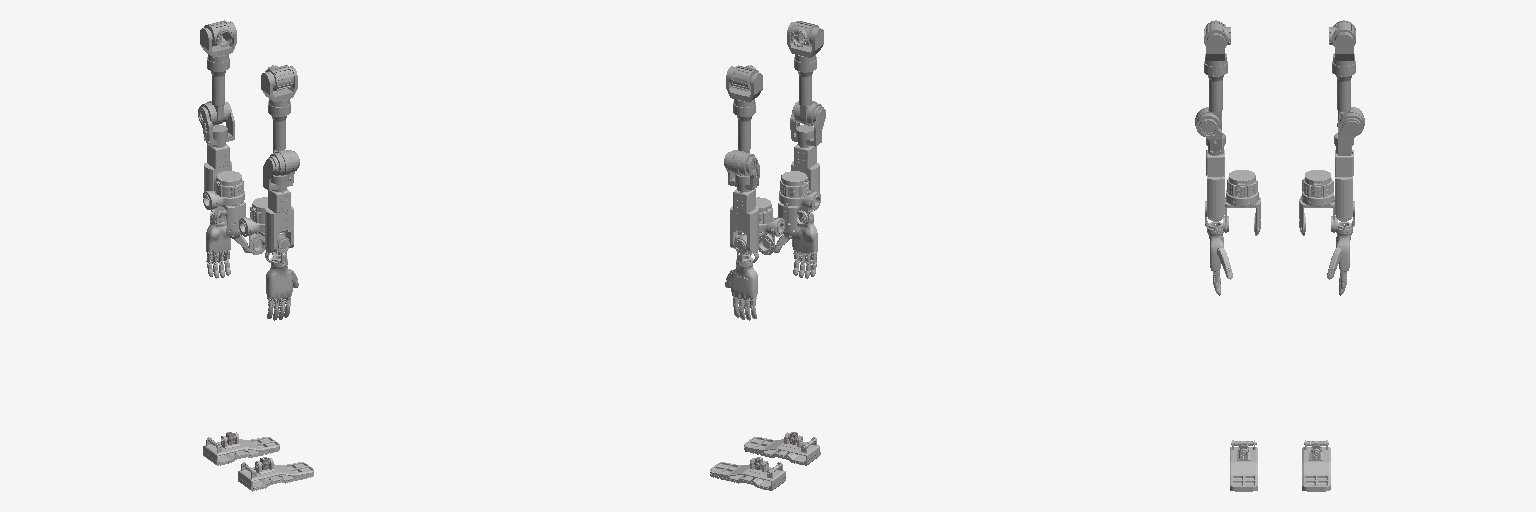
--- Render facts (derived) ---
3 views of the same robot in one strip: view 1: azimuth 30°, elevation 25°; view 2: azimuth 150°, elevation 25°; view 3: azimuth 270°, elevation 25° (orthographic).
Model OGHR_wholeBody with 32 links and 31 joints (12 revolute, 19 fixed), rooted at base_link, posed every joint at zero.
Links seen in each view (by area): view 1: Link-arm-r-07, Link-ankel-r-roll, Link-ankel-l-roll, Link-arm-r-05, Link-arm-l-07, Link-hip-l-roll, Link-arm-r-03, Link-arm-r-02, Link-arm-l-02, Link-arm-l-03, Link-arm-l-04, Link-arm-l-05 (+5 smaller); view 2: Link-arm-l-07, Link-ankel-l-roll, Link-ankel-r-roll, Link-arm-l-05, Link-arm-r-07, Link-hip-r-roll, Link-arm-l-03, Link-arm-l-02, Link-arm-r-02, Link-arm-r-03, Link-arm-r-05, Link-arm-r-04 (+5 smaller); view 3: Link-ankel-l-roll, Link-ankel-r-roll, Link-arm-r-05, Link-arm-l-05, Link-arm-l-07, Link-arm-r-07, Link-hip-r-roll, Link-hip-l-roll, Link-arm-r-03, Link-arm-l-03, Link-arm-r-02, Link-arm-l-02 (+2 smaller).
Boxes of the visible links, x1,y1,x2,y2 form: Link-arm-r-07: (266, 239, 298, 320); Link-ankel-r-roll: (238, 458, 313, 491); Link-ankel-l-roll: (203, 432, 279, 465); Link-arm-r-05: (265, 189, 293, 252); Link-arm-l-07: (206, 206, 249, 278); Link-hip-l-roll: (203, 171, 244, 209); Link-arm-r-03: (269, 115, 297, 175); Link-arm-r-02: (261, 66, 297, 116); Link-arm-l-02: (200, 21, 236, 71); Link-arm-l-03: (200, 71, 229, 125); Link-arm-l-04: (198, 102, 234, 146); Link-arm-l-05: (204, 144, 231, 191); Link-arm-l-07: (725, 239, 757, 320); Link-ankel-l-roll: (710, 458, 785, 490); Link-ankel-r-roll: (744, 432, 820, 465); Link-arm-l-05: (730, 189, 758, 252); Link-arm-r-07: (774, 206, 817, 278); Link-hip-r-roll: (779, 171, 820, 210); Link-arm-l-03: (725, 115, 754, 175); Link-arm-l-02: (726, 66, 762, 116); Link-arm-r-02: (787, 22, 823, 71); Link-arm-r-03: (794, 71, 823, 125); Link-arm-r-05: (791, 144, 819, 191); Link-arm-r-04: (790, 101, 825, 146); Link-ankel-l-roll: (1302, 440, 1330, 491); Link-ankel-r-roll: (1230, 440, 1257, 491); Link-arm-r-05: (1206, 150, 1224, 221); Link-arm-l-05: (1335, 150, 1353, 221); Link-arm-l-07: (1327, 201, 1354, 295); Link-arm-r-07: (1205, 201, 1232, 295); Link-hip-r-roll: (1226, 170, 1258, 206); Link-hip-l-roll: (1302, 170, 1333, 206); Link-arm-r-03: (1195, 75, 1223, 136); Link-arm-l-03: (1336, 75, 1364, 135); Link-arm-r-02: (1204, 20, 1227, 75); Link-arm-l-02: (1332, 20, 1355, 75).
Bounding box of the posed robot: 0.2604 × 0.5365 × 1.55 m (x, y, z).
Meshes: 31 distinct files referenced, 22 mesh visuals loaded (22 binary STL); not drawn: 9 (reference not matched to a file when rendering).

The robot description file, URDF, robot "OGHR_wholeBody":
<?xml version='1.0' encoding='utf-8'?>
<!--Mar20，dof=30. 在14个arm关节加入dyamic damping，解决arm d参数不为0时，模型起飞的问题 -->


<robot name="OGHR_wholeBody">
  <link name="base_link">
    <visual>
      <origin xyz="0 0 0" rpy="0 0 0" />
      <geometry>
        <mesh filename="../meshes/base_link.STL" />
      </geometry>
      <material name="">
        <color rgba="0.752941176470588 0.752941176470588 0.752941176470588 1" />
      </material>
    </visual>
    <collision>
      <origin xyz="-0.013952188014817027 -0.0017500072717666626 0.1952817626297474" rpy="0.0 -0.0 0.0" />
      <geometry>
        <cylinder radius="0.17451942443882115" length="0.5015875324606895" /></geometry>
    </collision>
  </link>

  <joint name="base_to_base_inertia" type="fixed">
      <parent link="base_link"/>
      <child link="base_inertia"/>
      <origin rpy="0 0 0" xyz="0 0 0"/>
  </joint>

  <link name="base_inertia">
    <inertial>
      <origin xyz="-0.00937873275308851 -0.0024174492797241 0.239477945072171" rpy="0 0 0" />
      <mass value="18.1571811742143" />
      <inertia ixx="0.169254198117498" ixy="-9.82793377858521E-05" ixz="-0.00196962742767876" iyy="0.117409548011636" iyz="-0.00155273612928489" izz="0.0892397551850186" />
    </inertial>
  </link>


  <link name="Link-head">
    <inertial>
      <origin xyz="0.00675716170223759 -0.00156848883148059 0.0869803247760886" rpy="0 0 0" />
      <mass value="6.17377017203395" />
      <inertia ixx="0.00531354041763959" ixy="2.5342574679348E-06" ixz="-2.64506724474426E-07" iyy="0.00411692689463954" iyz="-1.73165398064626E-05" izz="0.00526273524074424" />
    </inertial>
    <visual>
      <origin xyz="0 0 0" rpy="0 0 0" />
      <geometry>
        <mesh filename="../meshes/Link-head.STL" />
      </geometry>
      <material name="">
        <color rgba="0.752941176470588 0.752941176470588 0.752941176470588 1" />
      </material>
    </visual>
<!--     <collision>
      <origin xyz="0.012872748076915741 -0.0017999988049268723 0.08892499655485153" rpy="-3.141592653589793 0.0 -1.5707963267948966" />
      <geometry>
        <box size="0.1273999996483326 0.15474548935890198 0.32184998691082" /></geometry>
    </collision> -->
  </link>
  <joint name="Joint-head" type="fixed">
    <origin xyz="0.00900000000000004 -0.00174999999999978 0.4151968020067" rpy="0 0 0" />
    <parent link="base_link" />
    <child link="Link-head" />
    <axis xyz="0 0 1" />
    <limit lower="-1.5708" upper="1.5708" effort="26" velocity="109.8"/>
  </joint>
  <link name="Link-waist-pitch">
    <inertial>
      <origin xyz="-0.000763111686901186 0.0406491129851861 -2.23880461263648E-05" rpy="0 0 0" />
      <mass value="2.51931527548815" />
      <inertia ixx="0.00308539512532376" ixy="1.43517055822627E-05" ixz="1.82270453565513E-05" iyy="0.0046854972257646" iyz="-7.36407138377499E-06" izz="0.00408449264897039" />
    </inertial>
    <visual>
      <origin xyz="0 0 0" rpy="0 0 0" />
      <geometry>
        <mesh filename="../meshes/Link-waist-pitch.STL" />
      </geometry>
      <material name="">
        <color rgba="0.752941176470588 0.752941176470588 0.752941176470588 1" />
      </material>
    </visual>
<!--     <collision>
      <origin xyz="0.00199996680021286 0.07050000230083242 -1.6763806344361431e-07" rpy="1.5707963267948966 1.5707963267948963 0.0" />
      <geometry>
        <box size="0.11997997015714645 0.14000000059604645 0.14300000469665974" /></geometry>
    </collision> -->
  </link>
  <joint name="Joint-waist-pitch" type="fixed">
    <origin xyz="0 -0.0659999999999838 0" rpy="0 0 0" />
    <parent link="base_link" />
    <child link="Link-waist-pitch" />
    <axis xyz="0 1 0" />
    <limit lower="-0.29671" upper="0.78540" effort="315" velocity="3.72"/>
  </joint>
  <link name="Link-waist-roll">
    <inertial>
      <origin xyz="0.00845281944204091 1.33729054259945E-05 -0.017867520692591" rpy="0 0 0" />
      <mass value="2.80248311132153" />
      <inertia ixx="0.00495506989132014" ixy="1.48197791727765E-07" ixz="0.000309458199534245" iyy="0.00652898258745587" iyz="-3.20761660234857E-06" izz="0.00585004366434736" />
    </inertial>
    <visual>
      <origin xyz="0 0 0" rpy="0 0 0" />
      <geometry>
        <mesh filename="../meshes/Link-waist-roll.STL" />
      </geometry>
      <material name="">
        <color rgba="0.752941176470588 0.752941176470588 0.752941176470588 1" />
      </material>
    </visual>
<!--     <collision>
      <origin xyz="0.03731351097956529 0.00017723298096544265 -0.021654046216654208" rpy="1.4924704882736701 6.123119423390688e-17 -1.5665537786323642" />
      <geometry>
        <box size="0.11996369133850085 0.15626377947716824 0.23801676786660336" /></geometry>
    </collision> -->
  </link>
  <joint name="Joint-waist-roll" type="fixed">
    <origin xyz="-0.0650000369281862 0.0645001627211587 0" rpy="0 0 0" />
    <parent link="Link-waist-pitch" />
    <child link="Link-waist-roll" />
    <axis xyz="-1 0 0" />
    <limit lower="-0.69813" upper="0.69813" effort="315" velocity="3.72"/>
  </joint>
  <link name="Link-waist-yaw">
    <inertial>
      <origin xyz="-0.0929736164754045 0.000149481533112372 -0.0563711962261271" rpy="0 0 0" />
      <mass value="7.75174563610637" />
      <inertia ixx="0.0228536797733247" ixy="-1.56518939113941E-05" ixz="-0.000703849030322178" iyy="0.0106429949808401" iyz="1.22528496459123E-05" izz="0.0186276571755373" />
    </inertial>
    <visual>
      <origin xyz="0 0 0" rpy="0 0 0" />
      <geometry>
        <mesh filename="../meshes/Link-waist-yaw.STL" />
      </geometry>
      <material name="">
        <color rgba="0.752941176470588 0.752941176470588 0.752941176470588 1" />
      </material>
    </visual>
<!--     <collision>
      <origin xyz="-0.05185302265234276 2.760867437982527e-18 -0.06412826162728348" rpy="1.5707963267948966 1.460139092714645 -1.2246467991473535e-16" />
      <geometry>
        <box size="0.13545561016630708 0.2989381330574985 0.3733132779598236" /></geometry>
    </collision> -->
  </link>
  <joint name="Joint-waist-yaw" type="fixed">
    <origin xyz="0.0684999999999997 0 -0.0980000513061045" rpy="0 0 0" />
    <parent link="Link-waist-roll" />
    <child link="Link-waist-yaw" />
    <axis xyz="0 0 -1" />
    <limit lower="-0.78540" upper="0.78540" effort="121" velocity="5.92"/>
  </joint>
  <link name="Link-hip-r-roll">
    <inertial>
      <origin xyz="0.076390166737578 3.03511543725127E-05 0.0143062391833074" rpy="0 0 0" />
      <mass value="1.80238875741595" />
      <inertia ixx="0.00125179280974838" ixy="1.54590168247862E-06" ixz="3.05625833303904E-05" iyy="0.00169535240406635" iyz="-1.68196897206079E-07" izz="0.00272541511593347" />
    </inertial>
    <visual>
      <origin xyz="0 0 0" rpy="0 0 0" />
      <geometry>
        <mesh filename="../meshes/Link-hip-r-roll.STL" />
      </geometry>
      <material name="">
        <color rgba="0.752941176470588 0.752941176470588 0.752941176470588 1" />
      </material>
    </visual>
<!--     <collision>
      <origin xyz="0.06258442969846947 0.0011838415513330653 0.024949598458992146" rpy="0.011985398657902036 1.4357224833008577 -0.04597695021833127" />
      <geometry>
        <box size="0.09813085078731858 0.10398032712701388 0.14201198672823775" /></geometry>
    </collision> -->
  </link>
  <joint name="Joint-hip-r-roll" type="revolute">
    <origin xyz="-0.08925 -0.12 -0.069" rpy="0 0 0" />
    <parent link="Link-waist-yaw" />
    <child link="Link-hip-r-roll" />
    <axis xyz="1 0 0" />
    <limit lower="-0.17453" upper="0.43633" effort="320" velocity="20.94"/>
  </joint>
  <link name="Link-hip-r-yaw">
    <inertial>
      <origin xyz="1.96934755031242E-08 0.0079274160560492 -0.0418046770907138" rpy="0 0 0" />
      <mass value="0.454709107604389" />
      <inertia ixx="0.000973164812401904" ixy="-3.16836690856401E-10" ixz="9.06139013107346E-11" iyy="0.000718376693770816" iyz="0.000242790155097503" izz="0.000588381553769407" />
    </inertial>
    <visual>
      <origin xyz="0 0 0" rpy="0 0 0" />
      <geometry>
        <mesh filename="../meshes/Link-hip-r-yaw.STL" />
      </geometry>
      <material name="">
        <color rgba="0.752941176470588 0.752941176470588 0.752941176470588 1" />
      </material>
    </visual>
<!--     <collision>
      <origin xyz="-9.184846796413515e-20 -0.0014999993145465881 -0.06325000058859587" rpy="3.141592653589793 0.0 3.141592653589793" />
      <geometry>
        <box size="0.07599999755620956 0.12099999934434891 0.13250000216066837" /></geometry>
    </collision> -->
  </link>
  <joint name="Joint-hip-r-yaw" type="revolute">
    <origin xyz="0.084 0 -0.0085" rpy="0 0 0" />
    <parent link="Link-hip-r-roll" />
    <child link="Link-hip-r-yaw" />
    <axis xyz="0 0 1" />
    <limit lower="-0.69813" upper="0.69813" effort="160" velocity="19.63"/>
  </joint>
  <link name="Link-hip-r-pitch">
    <inertial>
      <origin xyz="0.000820610497592605 -0.0604023978595183 -0.10951682081624" rpy="0 0 0" />
      <mass value="7.95220980279937" />
      <inertia ixx="0.0503890524428115" ixy="3.18282420635614E-05" ixz="0.000471768988045289" iyy="0.059490539677579" iyz="-0.000509300588803013" izz="0.0130551232083801" />
    </inertial>
    <visual>
      <origin xyz="0 0 0" rpy="0 0 0" />
      <geometry>
        <mesh filename="../meshes/Link-hip-r-pitch.STL" />
      </geometry>
      <material name="">
        <color rgba="0.752941176470588 0.752941176470588 0.752941176470588 1" />
      </material>
    </visual>
<!--     <collision>
      <origin xyz="-4.6193543521264294e-05 -0.07795840022630607 -0.18361305197639355" rpy="0.0039455287382695395 -3.8854784692761904e-05 3.14050601593697" />
      <geometry>
        <box size="0.14507866237577624 0.15943287175483914 0.5127248510052559" /></geometry>
    </collision> -->
  </link>
  <joint name="Joint-hip-r-pitch" type="revolute">
    <origin xyz="0 0.042 -0.0915" rpy="0 0 0" />
    <parent link="Link-hip-r-yaw" />
    <child link="Link-hip-r-pitch" />
    <axis xyz="0 -1 0" />
    <limit lower="-0.78540" upper="1.83260" effort="396" velocity="19.16"/>
  </joint>
  <link name="Link-knee-r-pitch">
    <inertial>
      <origin xyz="0.000639236354171291 9.62808016377603E-05 -0.153490081684239" rpy="0 0 0" />
      <mass value="3.11550909936834" />
      <inertia ixx="0.0186292337539655" ixy="1.58683525627823E-06" ixz="-6.73265902440249E-05" iyy="0.0198789326977139" iyz="-0.000128511630887303" izz="0.00190947453932418" />
    </inertial>
    <visual>
      <origin xyz="0 0 0" rpy="0 0 0" />
      <geometry>
        <mesh filename="../meshes/Link-knee-r-pitch.STL" />
      </geometry>
      <material name="">
        <color rgba="0.752941176470588 0.752941176470588 0.752941176470588 1" />
      </material>
    </visual>
<!--     <collision>
      <origin xyz="-3.725290294406618e-09 0.0003118944892807017 -0.17954874387885927" rpy="3.141592653589793 -0.013213567696469695 1.5707963267948966" />
      <geometry>
        <box size="0.07408246400690617 0.08600000292062761 0.4455689628784434" /></geometry>
    </collision> -->
  </link>
  <joint name="Joint-knee-r-pitch" type="revolute">
    <origin xyz="0 -0.03675 -0.4" rpy="0 0 0" />
    <parent link="Link-hip-r-pitch" />
    <child link="Link-knee-r-pitch" />
    <axis xyz="0 -1 0" />
    <limit lower="-2.35619" upper="0.08727" effort="396" velocity="19.16"/>
  </joint>
  <link name="Link-ankel-r-pitch">
    <inertial>
      <origin xyz="-3.17662562920873E-13 3.53606033343112E-14 -5.48450174164827E-14" rpy="0 0 0" />
      <mass value="0.1066047377175" />
      <inertia ixx="1.57903782679343E-05" ixy="-2.16224482051812E-21" ixz="-1.15876503901397E-19" iyy="1.57903782679342E-05" iyz="-1.66852913898316E-21" izz="1.31288118415823E-05" />
    </inertial>
    <visual>
      <origin xyz="0 0 0" rpy="0 0 0" />
      <geometry>
        <mesh filename="../meshes/Link-ankel-r-pitch.STL" />
      </geometry>
      <material name="">
        <color rgba="0.650980392156863 0.619607843137255 0.588235294117647 1" />
      </material>
    </visual>
    <!-- <collision>
      <origin xyz="-4.381461382025417e-06 -4.3428215170957784e-06 4.450455682340315e-10" rpy="-9.819429914603828e-05 4.2555862630435386e-06 9.819429914603827e-05" />
      <geometry>
        <cylinder radius="0.019225703489242303" length="0.03800194496704715" /></geometry>
    </collision> -->
  </link>
  <joint name="Joint-ankel-r-pitch" type="revolute">
    <origin xyz="0 0 -0.387" rpy="0 0 0" />
    <parent link="Link-knee-r-pitch" />
    <child link="Link-ankel-r-pitch" />
    <axis xyz="0 -1 0" />
    <limit lower="-0.43633" upper="0.61087" effort="58.5" velocity="48.8"/>
  </joint>
  <link name="Link-ankel-r-roll">
    <inertial>
      <origin xyz="0.025070352573409 1.34105256369144E-06 -0.0402504890464221" rpy="0 0 0" />
      <mass value="0.961268049580653" />
      <inertia ixx="0.000733203896635286" ixy="3.66226788344456E-07" ixz="0.000346398619567223" iyy="0.00444019918875131" iyz="-1.28850738880711E-08" izz="0.00484731317996765" />
    </inertial>
    <visual>
      <origin xyz="0 0 0" rpy="0 0 0" />
      <geometry>
        <mesh filename="../meshes/Link-ankel-r-roll.STL" />
      </geometry>
      <material name="">
        <color rgba="0.752941176470588 0.752941176470588 0.752941176470588 1" />
      </material>
    </visual>
     <collision>
            <origin rpy="0.00000000 1.5708 0.00000000" xyz="0.0485000 -0.04000000 -0.06300000"/>
            <geometry>
                <cylinder radius="0.00500000" length="0.2500000"/>
            </geometry>
    </collision>
    <collision>
    <origin rpy="0.00000000 1.5708 0.00000000" xyz="0.0485000 0.04000000 -0.06300000"/>
            <geometry>
                <!-- <sphere radius="0.02" /> -->
                <cylinder radius="0.00500000" length="0.2500000"/>
            </geometry>
    </collision>
  </link>
  <joint name="Joint-ankel-r-roll" type="revolute">
    <origin xyz="0 0 0" rpy="0 0 0" />
    <parent link="Link-ankel-r-pitch" />
    <child link="Link-ankel-r-roll" />
    <axis xyz="1 0 0" />
    <limit lower="-0.43633" upper="0.43633" effort="58.5" velocity="48.8"/>
  </joint>
  <link name="Link-hip-l-roll">
    <inertial>
      <origin xyz="0.0763901668286551 3.03513294872687E-05 0.014306238971839" rpy="0 0 0" />
      <mass value="1.80238874582224" />
      <inertia ixx="0.00125179280304342" ixy="1.54590909428936E-06" ixz="3.05625828447715E-05" iyy="0.00169535239773455" iyz="-1.68197312334836E-07" izz="0.00272541510296216" />
    </inertial>
    <visual>
      <origin xyz="0 0 0" rpy="0 0 0" />
      <geometry>
        <mesh filename="../meshes/Link-hip-l-roll.STL" />
      </geometry>
      <material name="">
        <color rgba="0.752941176470588 0.752941176470588 0.752941176470588 1" />
      </material>
    </visual>
<!--     <collision>
      <origin xyz="0.06258442969846949 0.0011838415513330829 0.024949598458992122" rpy="0.011985398657903249 1.4357224833008586 -0.04597695021833084" />
      <geometry>
        <box size="0.09813085078731858 0.10398032712701387 0.14201198672823775" /></geometry>
    </collision> -->
  </link>
  <joint name="Joint-hip-l-roll" type="revolute">
    <origin xyz="-0.08925 0.12 -0.069" rpy="0 0 0" />
    <parent link="Link-waist-yaw" />
    <child link="Link-hip-l-roll" />
    <axis xyz="1 0 0" />
    <limit lower="-0.17453" upper="0.43633" effort="320" velocity="20.94"/>
  </joint>
  <link name="Link-hip-l-yaw">
    <inertial>
      <origin xyz="-1.96942060992633E-08 -0.00792741605598087 -0.041804677090701" rpy="0 0 0" />
      <mass value="0.454709107604388" />
      <inertia ixx="0.000973164812401896" ixy="-3.16836692200751E-10" ixz="-9.06139025122845E-11" iyy="0.000718376693770812" iyz="-0.000242790155097502" izz="0.000588381553769401" />
    </inertial>
    <visual>
      <origin xyz="0 0 0" rpy="0 0 0" />
      <geometry>
        <mesh filename="../meshes/Link-hip-l-yaw.STL" />
      </geometry>
      <material name="">
        <color rgba="0.752941176470588 0.752941176470588 0.752941176470588 1" />
      </material>
    </visual>
<!--     <collision>
      <origin xyz="-6.040048263161108e-18 0.001499999314546582 -0.06325000058859587" rpy="6.123233995736766e-17 -1.2246467991473532e-16 -6.123233995736767e-17" />
      <geometry>
        <box size="0.07599999755620956 0.12099999934434891 0.13250000216066837" /></geometry>
    </collision> -->
  </link>
  <joint name="Joint-hip-l-yaw" type="revolute">
    <origin xyz="0.084 0 -0.0085" rpy="0 0 0" />
    <parent link="Link-hip-l-roll" />
    <child link="Link-hip-l-yaw" />
    <axis xyz="0 0 1" />
    <limit lower="-0.69813" upper="0.69813" effort="160" velocity="19.63"/>
  </joint>
  <link name="Link-hip-l-pitch">
    <inertial>
      <origin xyz="0.00105388043992766 0.0604023021900387 -0.109522824129709" rpy="0 0 0" />
      <mass value="7.95221815290018" />
      <inertia ixx="0.0503922346722857" ixy="-2.23549074721858E-05" ixz="0.000443327356401021" iyy="0.0594907180450141" iyz="0.000509272882984435" izz="0.0130521193057974" />
    </inertial>
    <visual>
      <origin xyz="0 0 0" rpy="0 0 0" />
      <geometry>
        <mesh filename="../meshes/Link-hip-l-pitch.STL" />
      </geometry>
      <material name="">
        <color rgba="0.752941176470588 0.752941176470588 0.752941176470588 1" />
      </material>
    </visual>
<!--     <collision>
      <origin xyz="-2.2520426185974134e-05 0.07796109323125147 -0.18361422461241078" rpy="0.003911392450868313 0.00020931369706806438 0.00036150118021151023" />
      <geometry>
        <box size="0.14503427450383943 0.15941111856712295 0.5127229271802446" /></geometry>
    </collision> -->
  </link>
  <joint name="Joint-hip-l-pitch" type="revolute">
    <origin xyz="0 -0.042 -0.0915" rpy="0 0 0" />
    <parent link="Link-hip-l-yaw" />
    <child link="Link-hip-l-pitch" />
    <axis xyz="0 -1 0" />
    <limit lower="-0.78540" upper="1.83260" effort="396" velocity="19.16"/>
  </joint>
  <link name="Link-knee-l-pitch">
    <inertial>
      <origin xyz="0.000859577488270175 -9.62775349648143E-05 -0.153320419279957" rpy="0 0 0" />
      <mass value="3.11550523222966" />
      <inertia ixx="0.0186220878233122" ixy="-1.3289358419371E-06" ixz="-7.88987246350888E-05" iyy="0.0198789407947462" iyz="0.000126859254993277" izz="0.00191662868343965" />
    </inertial>
    <visual>
      <origin xyz="0 0 0" rpy="0 0 0" />
      <geometry>
        <mesh filename="../meshes/Link-knee-l-pitch.STL" />
      </geometry>
      <material name="">
        <color rgba="0.752941176470588 0.752941176470588 0.752941176470588 1" />
      </material>
    </visual>
<!--     <collision>
      <origin xyz="0.0034062936902046217 -3.095157628723705e-18 -0.17950000800192356" rpy="-3.141592653589793 6.123233995736766e-17 -1.5707963267948968" />
      <geometry>
        <box size="0.07427535951137543 0.09281259030103683 0.4450000040233135" /></geometry>
    </collision> -->
  </link>
  <joint name="Joint-knee-l-pitch" type="revolute">
    <origin xyz="0 0.03675 -0.4" rpy="0 0 0" />
    <parent link="Link-hip-l-pitch" />
    <child link="Link-knee-l-pitch" />
    <axis xyz="0 -1 0" />
    <limit lower="-2.35619" upper="0.08727" effort="396" velocity="19.16"/>
  </joint>
  <link name="Link-ankel-l-pitch">
    <inertial>
      <origin xyz="-2.44984588171349E-13 3.88300502862649E-14 -7.7715611723761E-14" rpy="0 0 0" />
      <mass value="0.1066047377175" />
      <inertia ixx="1.57903782679342E-05" ixy="-6.88750394857774E-21" ixz="-4.53331603713002E-21" iyy="1.57903782679341E-05" iyz="-1.30790377938469E-20" izz="1.31288118415823E-05" />
    </inertial>
    <visual>
      <origin xyz="0 0 0" rpy="0 0 0" />
      <geometry>
        <mesh filename="../meshes/Link-ankel-l-pitch.STL" />
      </geometry>
      <material name="">
        <color rgba="0.650980392156863 0.619607843137255 0.588235294117647 1" />
      </material>
    </visual>
    <!-- <collision>
      <origin xyz="4.38146138216244e-06 4.342821517054662e-06 4.450455685953935e-10" rpy="9.819429913768458e-05 -4.2555862559364705e-06 9.819429913768458e-05" />
      <geometry>
        <cylinder radius="0.019225703489242414" length="0.03800194496704687" /></geometry>
    </collision> -->
  </link>
  <joint name="Joint-ankel-l-pitch" type="revolute">
    <origin xyz="0 0 -0.387" rpy="0 0 0" />
    <parent link="Link-knee-l-pitch" />
    <child link="Link-ankel-l-pitch" />
    <axis xyz="0 -1 0" />
    <limit lower="-0.43644" upper="0.61087" effort="58.5" velocity="48.8"/>
  </joint>
  <link name="Link-ankel-l-roll">
    <inertial>
      <origin xyz="0.0250706860034918 1.34004174877356E-06 -0.0402493590101791" rpy="0 0 0" />
      <mass value="0.961268031048969" />
      <inertia ixx="0.000733203474705894" 
                ixy="3.63706576161419E-07" 
                ixz="0.000346401945729133" 
                iyy="0.00444019890791145" 
                iyz="7.10958233844762E-09" 
                izz="0.00484731332572913" />
    </inertial>
    <visual>
      <origin xyz="0 0 0" rpy="0 0 0" />
      <geometry>
        <mesh filename="../meshes/Link-ankel-l-roll.STL" />
      </geometry>
      <material name="">
        <color rgba="0.752941176470588 0.752941176470588 0.752941176470588 1" />
      </material>
    </visual>
 <collision>
            <origin rpy="0.00000000 1.5708 0.00000000" xyz="0.0485000 -0.04000000 -0.06300000"/>
            <geometry>
                <cylinder radius="0.00500000" length="0.2500000"/>
            </geometry>
    </collision>
    <collision>
    <origin rpy="0.00000000 1.5708 0.00000000" xyz="0.0485000 0.04000000 -0.06300000"/>
    <!-- <origin rpy="0.00000000 1.5708 0.00000000" xyz="0.0485000 0. -0.06300000"/> -->
            <geometry>
                <!-- <box size="0.01 0.08 0.2500000" /> -->
                <!-- <sphere radius="0.02" /> -->
                <cylinder radius="0.00500000" length="0.2500000"/>
            </geometry>
    </collision>
  </link>
  <joint name="Joint-ankel-l-roll" type="revolute">
    <origin xyz="0 0 0" rpy="0 0 0" />
    <parent link="Link-ankel-l-pitch" />
    <child link="Link-ankel-l-roll" />
    <axis xyz="1 0 0" />
    <limit lower="-0.43633" upper="0.43633" effort="58.5" velocity="48.8"/>
  </joint>
  <link name="Link-arm-l-01">
    <inertial>
      <origin xyz="-0.00306103992428797 0.0383760600630056 -1.8171757551963E-06" rpy="0 0 0" />
      <mass value="0.780000005729253" />
      <inertia ixx="0.000598257211500478" ixy="-3.23209101093348E-06" ixz="3.81519617157762E-09" iyy="0.000859940452706444" iyz="-3.67611605874539E-08" izz="0.00090004081196277" />
    </inertial>
    <visual>
      <origin xyz="0 0 0" rpy="0 0 0" />
      <geometry>
        <mesh filename="../meshes/Link-arm-l-01.STL" />
      </geometry>
      <material name="">
        <color rgba="0.698039215686274 0.698039215686274 0.698039215686274 1" />
      </material>
    </visual>
<!--     <collision>
      <origin xyz="0.0010999999940395355 0.03649999899789691 3.0130843624695234e-19" rpy="-0.0 -1.5707963267948963 0.0" />
      <geometry>
        <box size="0.07599999755620956 0.08499999437481165 0.08540000021457672" /></geometry>
    </collision> -->
  </link>
  <joint name="Joint-arm-l-01" type="fixed">
    <dynamics damping="2" />
    <origin xyz="0.004 0.15985 0.3922" rpy="0 0 0" />
    <parent link="base_link" />
    <child link="Link-arm-l-01" />
    <axis xyz="0 1 0" />
    <limit lower="-2.96706" upper="2.96706" effort="80" velocity="3.14"/>
  </joint>
  <link name="Link-arm-l-02">
    <inertial>
      <origin xyz="0.0416000000000003 0.0674307499121858 2.08166817117217E-17" rpy="0 0 0" />
      <mass value="0.984999996273517" />
      <inertia ixx="0.0017309882399251" ixy="4.41311283617267E-19" ixz="1.53643283955187E-19" iyy="0.00115401958000568" iyz="-1.63613547932095E-19" izz="0.00226269324370836" />
    </inertial>
    <visual>
      <origin xyz="0 0 0" rpy="0 0 0" />
      <geometry>
        <mesh filename="../meshes/Link-arm-l-02.STL" />
      </geometry>
      <material name="">
        <color rgba="0.698039215686274 0.698039215686274 0.698039215686274 1" />
      </material>
    </visual>
<!--     <collision>
      <origin xyz="0.041600000113248825 0.0464093703776598 -1.5498742105739896e-18" rpy="1.5707963267948966 1.5707963267948966 0.0" />
      <geometry>
        <box size="0.07599999755620956 0.1080000028014183 0.1523812673985958" /></geometry>
    </collision> -->
  </link>
  <joint name="Joint-arm-l-02" type="fixed">
    <dynamics damping="2" />
    <origin xyz="-0.0416000000000003 0.041 0" rpy="-1.57 0 0" />
    <parent link="Link-arm-l-01" />
    <child link="Link-arm-l-02" />
    <axis xyz="-1 0 0" />
    <limit lower="-1.83260" upper="1.83260" effort="80" velocity="3.14"/>
  </joint>
  <link name="Link-arm-l-03">
    <inertial>
      <origin xyz="0.00141357502420031 0.164662742175383 0.0207578924800789" rpy="0 0 0" />
      <mass value="0.958999855228925" />
      <inertia ixx="0.00206438134078715" ixy="-1.82014067823467E-05" ixz="-5.12831369639873E-06" iyy="0.000805354129266641" iyz="-0.000255265992194607" izz="0.00205099914609259" />
    </inertial>
    <visual>
      <origin xyz="0 0 0" rpy="0 0 0" />
      <geometry>
        <mesh filename="../meshes/Link-arm-l-03.STL" />
      </geometry>
      <material name="">
        <color rgba="0.698039215686274 0.698039215686274 0.698039215686274 1" />
      </material>
    </visual>
<!--     <collision>
      <origin xyz="0.0035907567247734683 0.1074849601507937 0.01636875606667013" rpy="1.4606519640175615 0.0020058112873073785 3.14134910369041" />
      <geometry>
        <box size="0.07793724111544645 0.08272916659551086 0.2236414274854252" /></geometry>
    </collision> -->
  </link>
  <joint name="Joint-arm-l-03" type="fixed">
    <dynamics damping="2" />
    <origin xyz="0.0416000000000003 0.1226 0" rpy="0 0 0" />
    <parent link="Link-arm-l-02" />
    <child link="Link-arm-l-03" />
    <axis xyz="0 1 0" />
    <limit lower="-2.96706" upper="2.96706" effort="48" velocity="3.14"/>
  </joint>
  <link name="Link-arm-l-04">
    <inertial>
      <origin xyz="0.0387269859042673 0.060767224459303 -0.0210032450980777" rpy="0 0 0" />
      <mass value="0.60000012303258" />
      <inertia ixx="0.000703976141425558" ixy="2.02301178076797E-05" ixz="-1.12633779930428E-05" iyy="0.000680850033983237" iyz="0.000105852227353173" izz="0.00106526266740194" />
    </inertial>
    <visual>
      <origin xyz="0 0 0" rpy="0 0 0" />
      <geometry>
        <mesh filename="../meshes/Link-arm-l-04.STL" />
      </geometry>
      <material name="">
        <color rgba="0.698039215686274 0.698039215686274 0.698039215686274 1" />
      </material>
    </visual>
<!--     <collision>
      <origin xyz="0.036699998658150434 0.038699888411222426 -0.01613608411691635" rpy="3.141592653589793 -1.2962792846817848 1.5707963267948968" />
      <geometry>
        <box size="0.0700463031850532 0.09969999734312296 0.14310730744646838" /></geometry>
    </collision> -->
  </link>
  <joint name="Joint-arm-l-04" type="fixed">
    <dynamics damping="2" />
    <origin xyz="-0.0353000000000005 0.1774 0.0239999999999991" rpy="0 0 0" />
    <parent link="Link-arm-l-03" />
    <child link="Link-arm-l-04" />
    <axis xyz="1 0 0" />
    <limit lower="0" upper="2.96706" effort="48" velocity="3.14"/>
  </joint>
  <link name="Link-arm-l-05">
    <inertial>
      <origin xyz="-3.27117655763709E-05 0.068658078980444 -0.000111777507400233" rpy="0 0 0" />
      <mass value="0.689757693138339" />
      <inertia ixx="0.00235882431730605" ixy="5.58328339162506E-07" ixz="7.66044151526942E-07" iyy="0.000352542166092964" iyz="3.53227640951246E-06" izz="0.00215127146905776" />
    </inertial>
    <visual>
      <origin xyz="0 0 0" rpy="0 0 0" />
      <geometry>
        <mesh filename="../meshes/Link-arm-l-05.STL" />
      </geometry>
      <material name="">
        <color rgba="0.752941176470588 0.752941176470588 0.752941176470588 1" />
      </material>
    </visual>
<!--     <collision>
      <origin xyz="-5.025538570057275e-20 0.11250000445847397 -0.0" rpy="1.5707963267948968 1.5707963267948966 0.0" />
      <geometry>
        <box size="0.060499999672174454 0.0949999988079071 0.22500000896444539" /></geometry>
    </collision> -->
  </link>
  <joint name="Joint-arm-l-05" type="fixed">
    <dynamics damping="2" />
    <origin xyz="0.0353000000000004 0.1035 -0.0240000000000001" rpy="0 0 0" />
    <parent link="Link-arm-l-04" />
    <child link="Link-arm-l-05" />
    <axis xyz="0 1 0" />
    <limit lower="-2.96706" upper="2.96706" effort="12.4" velocity="6.28"/>
  </joint>
  <link name="Link-arm-l-06">
    <inertial>
      <origin xyz="-0.0257776548825587 8.95877203199724E-07 0.00166373234012297" rpy="0 0 0" />
      <mass value="0.280000012776158" />
      <inertia ixx="0.000145596926990102" ixy="-7.70263046371805E-10" ixz="2.14557176369598E-07" iyy="0.000156926535065694" iyz="2.41022657688205E-09" izz="0.000104981940665912" />
    </inertial>
    <visual>
      <origin xyz="0 0 0" rpy="0 0 0" />
      <geometry>
        <mesh filename="../meshes/Link-arm-l-06.STL" />
      </geometry>
      <material name="">
        <color rgba="0.698039215686274 0.698039215686274 0.698039215686274 1" />
      </material>
    </visual>
<!--     <collision>
      <origin xyz="-0.026200000196695328 0.0 0.0017610081528045274" rpy="0.0 -0.0 0.0" />
      <geometry>
        <sphere radius="0.03501915426463573" /></geometry>
    </collision> -->
  </link>
  <joint name="Joint-arm-l-06" type="fixed">
    <dynamics damping="2" />
    <origin xyz="0.0262 0.1965 0" rpy="0 0 0" />
    <parent link="Link-arm-l-05" />
    <child link="Link-arm-l-06" />
    <axis xyz="-1 0 0" />
    <limit lower="-1.8326" upper="1.8326" effort="12.4" velocity="6.28"/>
  </joint>
  <link name="Link-arm-l-07">
    <inertial>
      <origin xyz="0.00776709662739103 0.156740798334638 -0.0352773316778172" rpy="0 0 0" />
      <mass value="0.593416220168239" />
      <inertia ixx="0.00182974468699516" ixy="-2.53140470581211E-06" ixz="0.000105042614604936" iyy="0.000684622447756657" iyz="2.86238622396644E-05" izz="0.00224386240361637" />
    </inertial>
    <visual>
      <origin xyz="0 0 0" rpy="0 0 0" />
      <geometry>
        <mesh filename="../meshes/Link-arm-l-07.STL" />
      </geometry>
      <material name="">
        <color rgba="0.752941176470588 0.752941176470588 0.752941176470588 1" />
      </material>
    </visual>
<!--     <collision>
      <origin xyz="0.02380741588302666 0.13258258781637355 -0.043251779725486716" rpy="0.04025452169359259 1.4758929448528735 -1.5707963267948968" />
      <geometry>
        <box size="0.07339801818481184 0.1418233521894603 0.31796372026603076" /></geometry>
    </collision> -->
  </link>
  <joint name="Joint-arm-l-07" type="fixed">
    <dynamics damping="2" />
    <origin xyz="-0.0262000000000006 0 0.0317999999999995" rpy="0 0 0" />
    <parent link="Link-arm-l-06" />
    <child link="Link-arm-l-07" />
    <axis xyz="0 0 1" />
    <limit lower="-1.04720" upper="1.04720" effort="12.4" velocity="6.28"/>
  </joint>
  <link name="Link-arm-r-01">
    <inertial>
      <origin xyz="0.00306103992428229 -0.0383760600630048 -1.81717575383628E-06" rpy="0 0 0" />
      <mass value="0.780000005729253" />
      <inertia ixx="0.000598257211500478" ixy="-3.23209101093319E-06" ixz="-3.81519617194688E-09" iyy="0.000859940452706445" iyz="3.67611605870423E-08" izz="0.00090004081196277" />
    </inertial>
    <visual>
      <origin xyz="0 0 0" rpy="0 0 0" />
      <geometry>
        <mesh filename="../meshes/Link-arm-r-01.STL" />
      </geometry>
      <material name="">
        <color rgba="0.698039215686274 0.698039215686274 0.698039215686274 1" />
      </material>
    </visual>
<!--     <collision>
      <origin xyz="-0.0010999999940395355 -0.0364999989978969 -3.013084362469539e-19" rpy="-0.0 -1.5707963267948963 0.0" />
      <geometry>
        <box size="0.07599999755620956 0.08499999437481165 0.08540000021457672" /></geometry>
    </collision> -->
  </link>
  <joint name="Joint-arm-r-01" type="fixed">
    <dynamics damping="2" />
    <origin xyz="0.00400000000000136 -0.16335 0.3921968020067" rpy="0 0 0" />
    <parent link="base_link" />
    <child link="Link-arm-r-01" />
    <axis xyz="0 -1 0" />
    <limit lower="-2.96706" upper="2.96706" effort="80" velocity="3.14"/>
  </joint>
  <link name="Link-arm-r-02">
    <inertial>
      <origin xyz="0.043799999999994 -0.067430749912185 1.38083988687754E-15" rpy="0 0 0" />
      <mass value="0.984999996273519" />
      <inertia ixx="0.00173098823992511" ixy="2.0464635199778E-19" ixz="5.14570753790058E-20" iyy="0.00115401958000568" iyz="-7.0499338414027E-19" izz="0.00226269324370836" />
    </inertial>
    <visual>
      <origin xyz="0 0 0" rpy="0 0 0" />
      <geometry>
        <mesh filename="../meshes/Link-arm-r-02.STL" />
      </geometry>
      <material name="">
        <color rgba="0.698039215686274 0.698039215686274 0.698039215686274 1" />
      </material>
    </visual>
<!--     <collision>
      <origin xyz="0.043800000101327896 -0.0464093703776598 -1.5977784783500574e-19" rpy="1.5707963267948968 1.5707963267948966 0.0" />
      <geometry>
        <box size="0.07599999755620956 0.1080000028014183 0.1523812673985958" /></geometry>
    </collision> -->
  </link>
  <joint name="Joint-arm-r-02" type="fixed">
    <dynamics damping="2" />
    <origin xyz="-0.0437999999999997 -0.041 0" rpy="1.57 0 0" />
    <parent link="Link-arm-r-01" />
    <child link="Link-arm-r-02" />
    <axis xyz="-1 0 0" />
    <limit lower="-1.8326" upper="1.8326" effort="80" velocity="3.14"/>
  </joint>
  <link name="Link-arm-r-03">
    <inertial>
      <origin xyz="-0.001413575024206 -0.164662742175411 0.0207578924800773" rpy="0 0 0" />
      <mass value="0.958999855228864" />
      <inertia ixx="0.00206438134709136" ixy="-1.8201406782397E-05" ixz="5.12831369639879E-06" iyy="0.000805354129266641" iyz="0.000255265992194609" izz="0.0020509991523968" />
    </inertial>
    <visual>
      <origin xyz="0 0 0" rpy="0 0 0" />
      <geometry>
        <mesh filename="../meshes/Link-arm-r-03.STL" />
      </geometry>
      <material name="">
        <color rgba="0.698039215686274 0.698039215686274 0.698039215686274 1" />
      </material>
    </visual>
<!--     <collision>
      <origin xyz="-0.003590756724773478 -0.10748496015079327 0.01636875606667012" rpy="1.4606519640175626 0.0020058112873073603 -0.0002435498993832781" />
      <geometry>
        <box size="0.07793724111544645 0.08272916659551091 0.22364142748542606" /></geometry>
    </collision> -->
  </link>
  <joint name="Joint-arm-r-03" type="fixed">
    <dynamics damping="2" />
    <origin xyz="0.0437999999999997 -0.1226 0" rpy="0 0 0" />
    <parent link="Link-arm-r-02" />
    <child link="Link-arm-r-03" />
    <axis xyz="0 -1 0" />
    <limit lower="-2.96706" upper="2.96706" effort="48" velocity="3.14"/>
  </joint>
  <link name="Link-arm-r-04">
    <inertial>
      <origin xyz="0.039073014095727 -0.0607672244593022 -0.0210032450980807" rpy="0 0 0" />
      <mass value="0.60000012303258" />
      <inertia ixx="0.000703976141425557" ixy="2.02301178076796E-05" ixz="1.12633779930425E-05" iyy="0.000680850033983236" iyz="-0.000105852227353173" izz="0.00106526266740194" />
    </inertial>
    <visual>
      <origin xyz="0 0 0" rpy="0 0 0" />
      <geometry>
        <mesh filename="../meshes/Link-arm-r-04.STL" />
      </geometry>
      <material name="">
        <color rgba="0.698039215686274 0.698039215686274 0.698039215686274 1" />
      </material>
    </visual>
<!--     <collision>
      <origin xyz="0.04109999863430858 -0.038699888411222426 -0.016136084116916347" rpy="3.141592653589793 1.2962792846817848 1.5707963267948963" />
      <geometry>
        <box size="0.0700463031850532 0.09969999734312296 0.14310730744646838" /></geometry>
    </collision> -->
  </link>
  <joint name="Joint-arm-r-04" type="fixed">
    <dynamics damping="2" />
    <origin xyz="-0.0424999999999995 -0.1774 0.0240000000000004" rpy="0 0 0" />
    <parent link="Link-arm-r-03" />
    <child link="Link-arm-r-04" />
    <axis xyz="-1 0 0" />
    <limit lower="0" upper="2.96706" effort="48" velocity="3.14"/>
  </joint>
  <link name="Link-arm-r-05">
    <inertial>
      <origin xyz="3.27117655716386E-05 -0.0686580789804432 -0.000111777507395494" rpy="0 0 0" />
      <mass value="0.689757693138342" />
      <inertia ixx="0.00235882431730607" ixy="5.58328339163229E-07" ixz="-7.660441515232E-07" iyy="0.000352542166092964" iyz="-3.53227640950083E-06" izz="0.00215127146905777" />
    </inertial>
    <visual>
      <origin xyz="0 0 0" rpy="0 0 0" />
      <geometry>
        <mesh filename="../meshes/Link-arm-r-05.STL" />
      </geometry>
      <material name="">
        <color rgba="0.752941176470588 0.752941176470588 0.752941176470588 1" />
      </material>
    </visual>
<!--     <collision>
      <origin xyz="5.025538570058354e-20 -0.1125000044584738 -6.888638518206645e-18" rpy="1.5707963267948966 -1.5707963267948966 0.0" />
      <geometry>
        <box size="0.060499999672174454 0.0949999988079071 0.22500000896444583" /></geometry>
    </collision> -->
  </link>
  <joint name="Joint-arm-r-05" type="fixed">
    <dynamics damping="2" />
    <origin xyz="0.0424999999999996 -0.1035 -0.0240000000000017" rpy="0 0 0" />
    <parent link="Link-arm-r-04" />
    <child link="Link-arm-r-05" />
    <axis xyz="0 -1 0" />
    <limit lower="-2.96706" upper="2.96706" effort="12.4" velocity="6.28"/>
  </joint>
  <link name="Link-arm-r-06">
    <inertial>
      <origin xyz="0.0260776549021208 -8.95881984486202E-07 0.00166373234102306" rpy="0 0 0" />
      <mass value="0.280000013048917" />
      <inertia ixx="0.000145596926993128" ixy="-7.7023391901063E-10" ixz="-2.14557181931322E-07" iyy="0.000156926535180047" iyz="-2.4102230047839E-09" izz="0.000104981940785071" />
    </inertial>
    <visual>
      <origin xyz="0 0 0" rpy="0 0 0" />
      <geometry>
        <mesh filename="../meshes/Link-arm-r-06.STL" />
      </geometry>
      <material name="">
        <color rgba="0.698039215686274 0.698039215686274 0.698039215686274 1" />
      </material>
    </visual>
<!--     <collision>
      <origin xyz="0.02650000061839819 0.0 0.0017610083875485572" rpy="0.0 -0.0 0.0" />
      <geometry>
        <sphere radius="0.035019154494572595" /></geometry>
    </collision> -->
  </link>
  <joint name="Joint-arm-r-06" type="fixed">
    <dynamics damping="2" />
    <origin xyz="-0.0265 -0.1965 0" rpy="0 0 0" />
    <parent link="Link-arm-r-05" />
    <child link="Link-arm-r-06" />
    <axis xyz="1 0 0" />
    <limit lower="-1.8326" upper="1.8326" effort="12.4" velocity="6.28"/>
  </joint>
  <link name="Link-arm-r-07">
    <inertial>
      <origin xyz="0.00776739705237825 -0.15675387798252 -0.0352737972102497" rpy="0 0 0" />
      <mass value="0.593523292542125" />
      <inertia ixx="0.00183024494810719" ixy="2.38959416257602E-06" ixz="0.000105062807260857" iyy="0.00068465461035053" iyz="-2.86016267379448E-05" izz="0.00224437701400042" />
    </inertial>
    <visual>
      <origin xyz="0 0 0" rpy="0 0 0" />
      <geometry>
        <mesh filename="../meshes/Link-arm-r-07.STL" />
      </geometry>
      <material name="">
        <color rgba="0.752941176470588 0.752941176470588 0.752941176470588 1" />
      </material>
    </visual>
<!--     <collision>
      <origin xyz="0.02785483771987293 -0.13497850388517907 -0.037820700434535705" rpy="1.6767243122035498 -1.4067540234769709 -0.09517156465257748" />
      <geometry>
        <box size="0.07368618248748682 0.1473701064215014 0.3155627443143712" /></geometry>
    </collision> -->
  </link>
  <joint name="Joint-arm-r-07" type="fixed">
    <dynamics damping="2" />
    <origin xyz="0.0265000000000006 0 0.0317999999999995" rpy="0 0 0" />
    <parent link="Link-arm-r-06" />
    <child link="Link-arm-r-07" />
    <axis xyz="0 0 1" />
    <limit lower="-1.04720" upper="1.04720" effort="12.4" velocity="6.28"/>
  </joint>
</robot>
